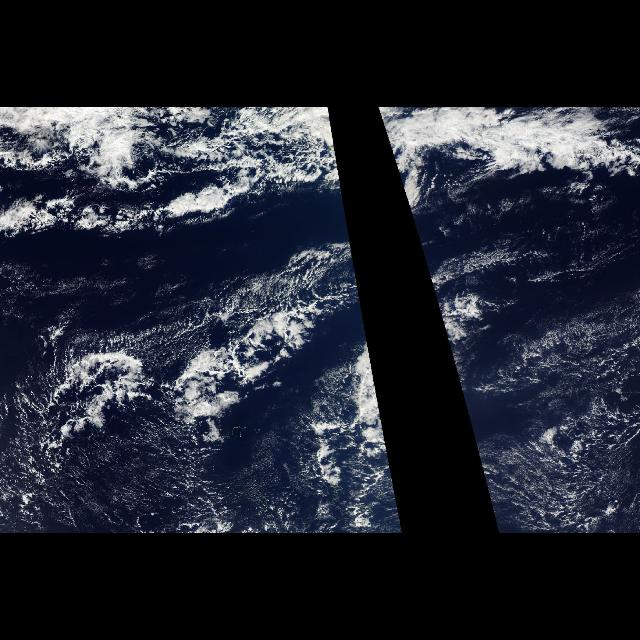Fish: (33, 256, 393, 478), (3, 107, 347, 213), (376, 107, 630, 213)
Gravel: (476, 380, 640, 532), (0, 438, 254, 534)
Sugar: (417, 238, 639, 534), (3, 417, 405, 533)
